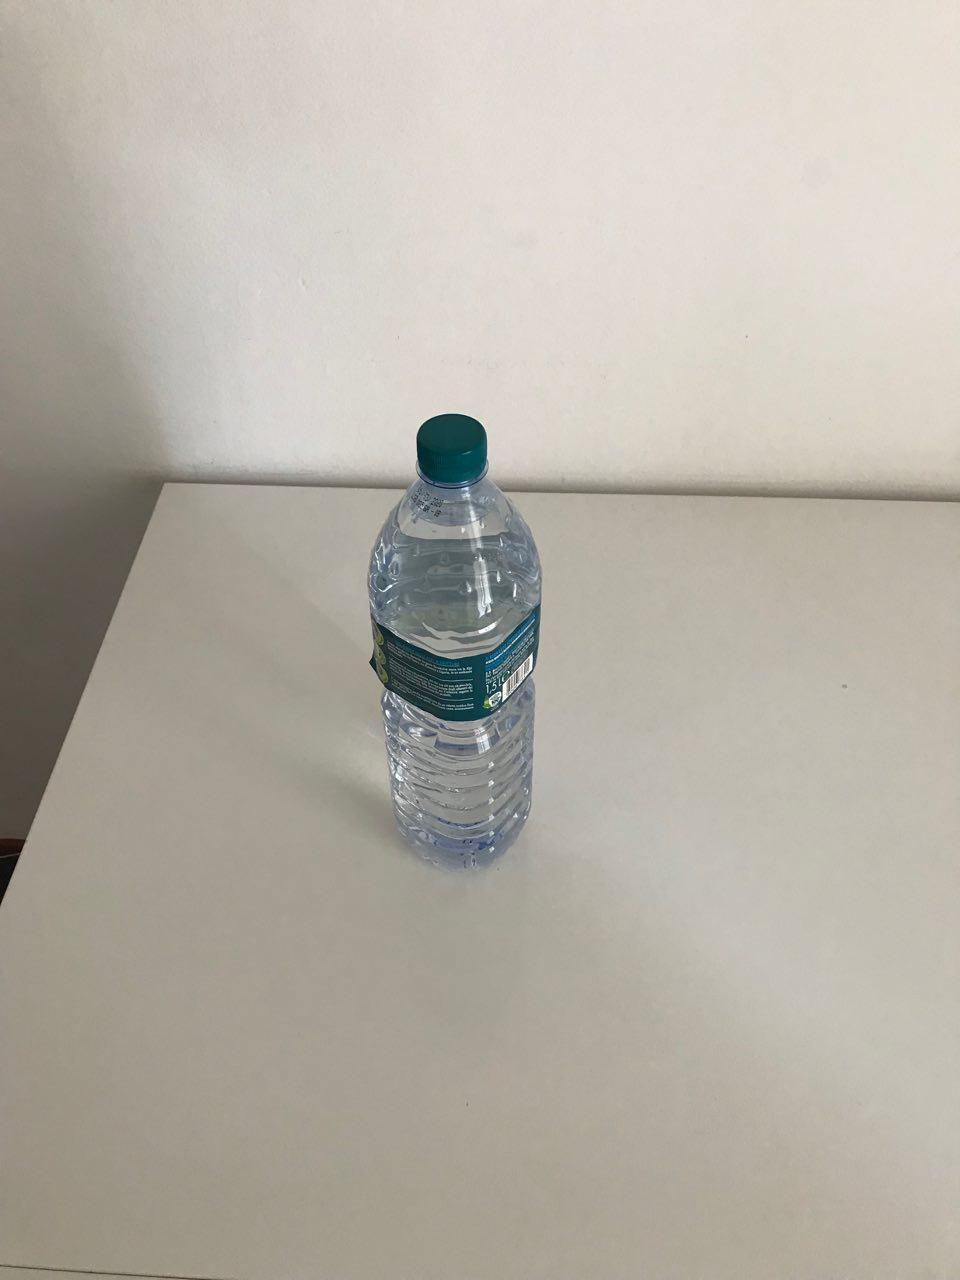san_bernardo: (364, 412, 544, 879)
